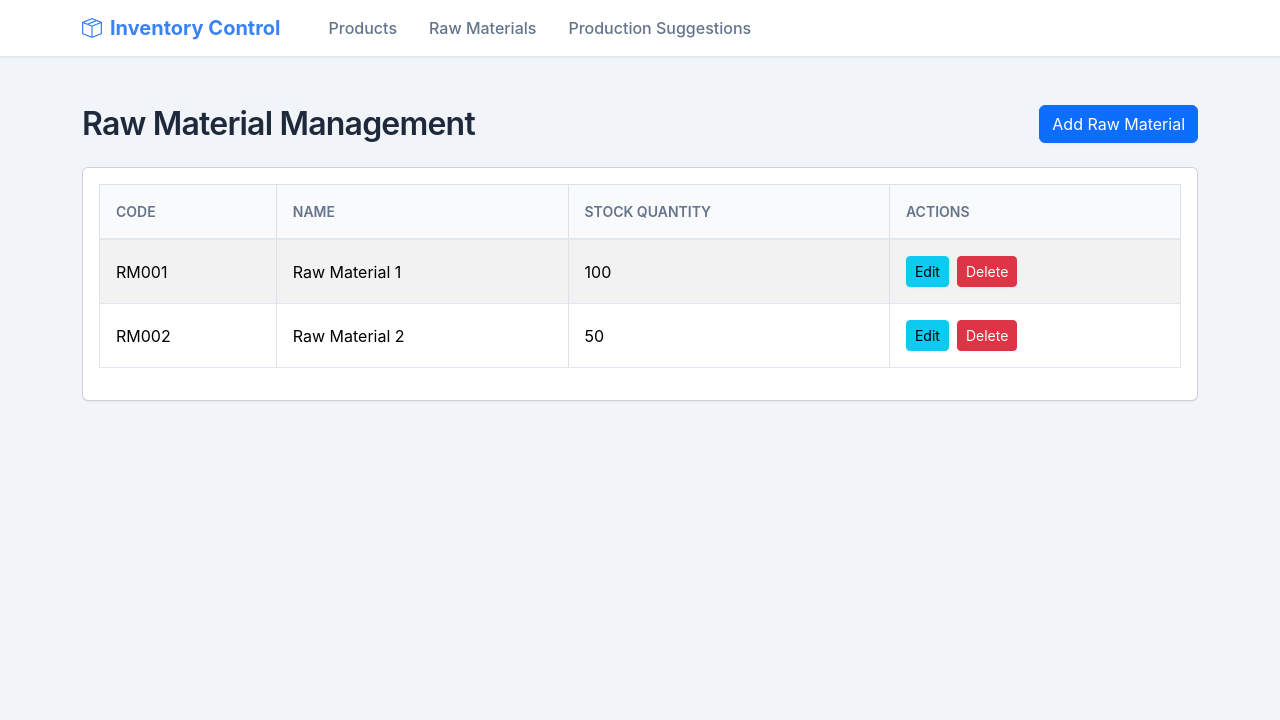
Test: Raw Material Management › should create a new raw material
The width and height of the screenshot is (1280, 720).
Click the button "Add Raw Material": (1119, 124) [1039,105,1198,143]
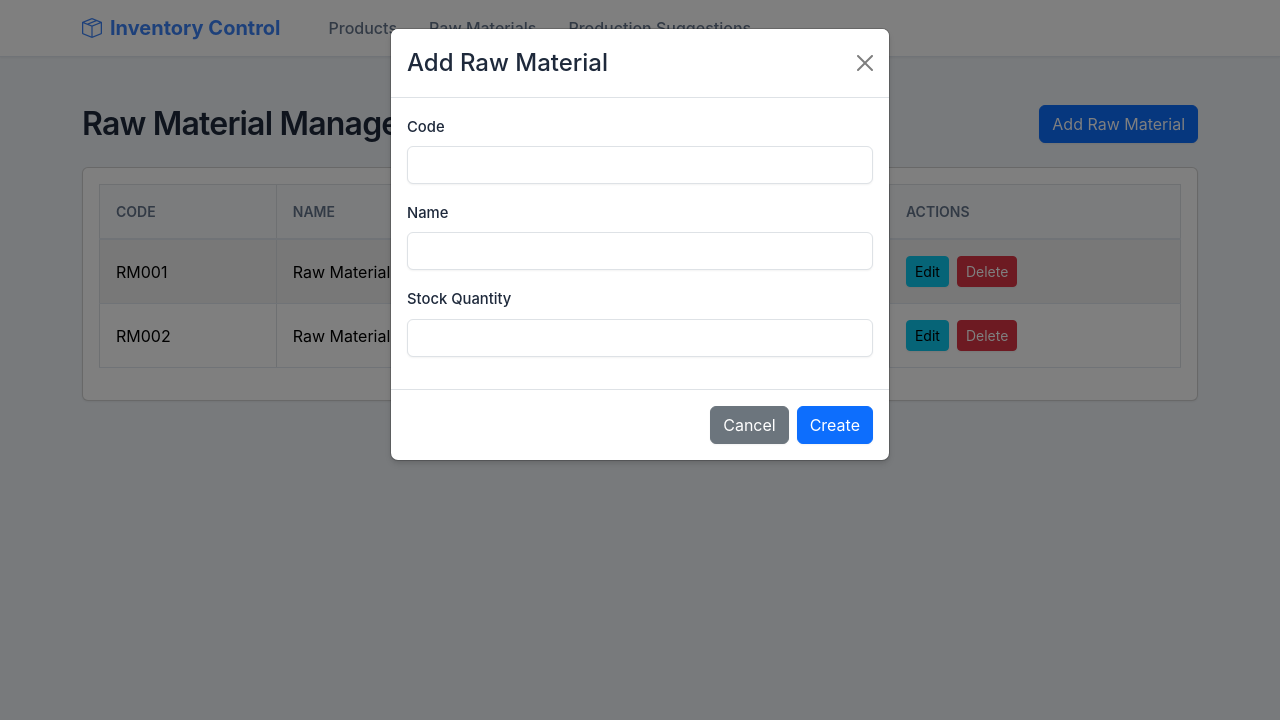
In the 1st field: (640, 165) [407,146,873,184], type "RM003"
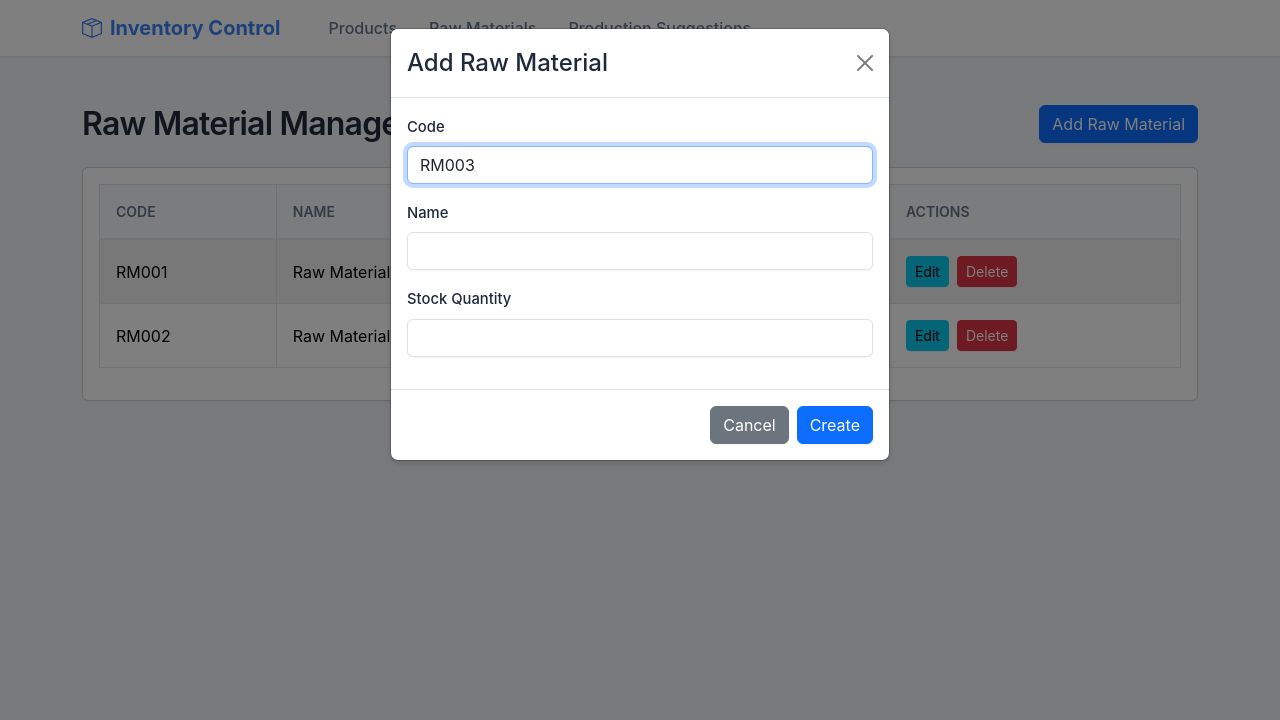
In the 2nd field: (640, 251) [407,232,873,270], type "New Raw Material"
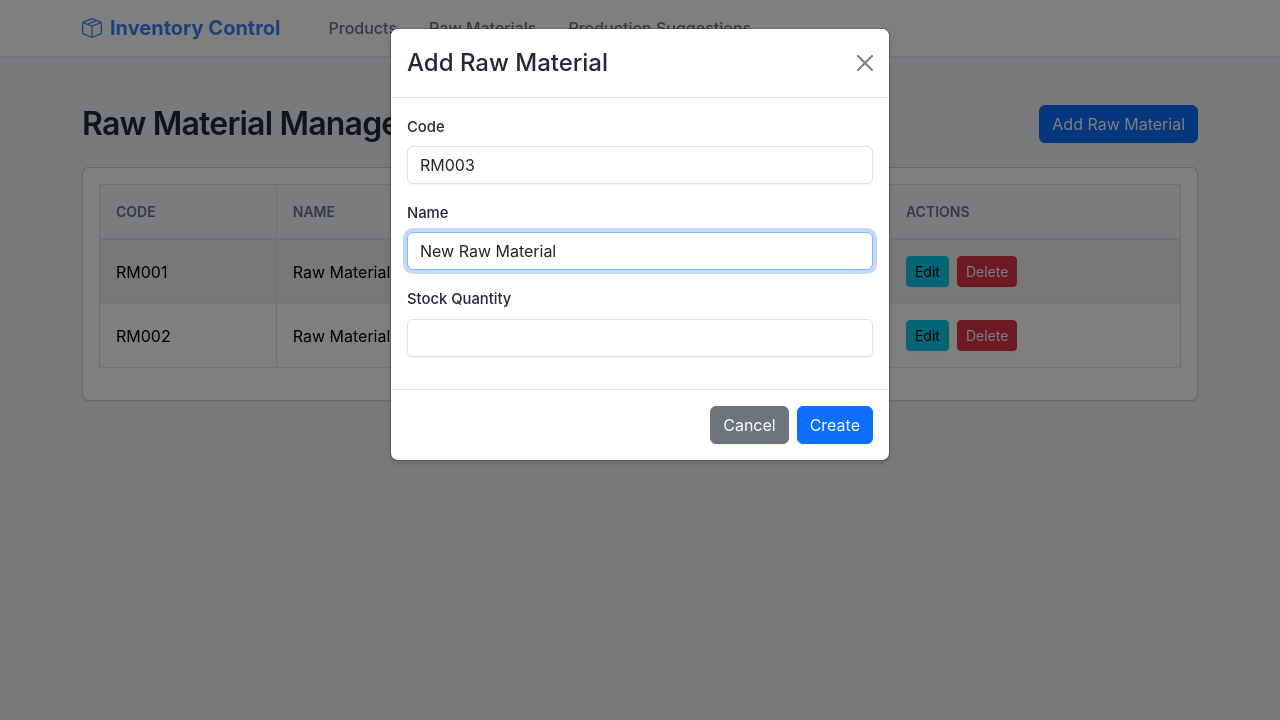
In the number field: (640, 338) [407,319,873,357], type "75"
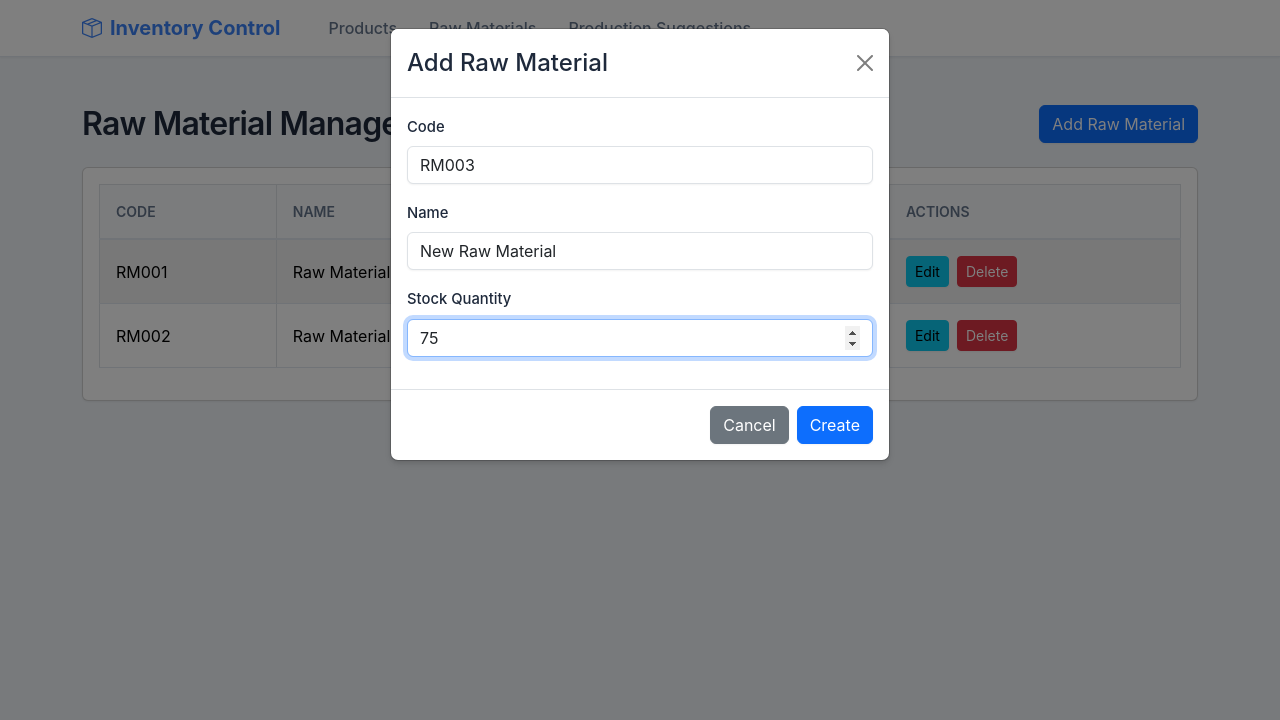
Click the button "Create": (835, 425) [797,406,873,444]
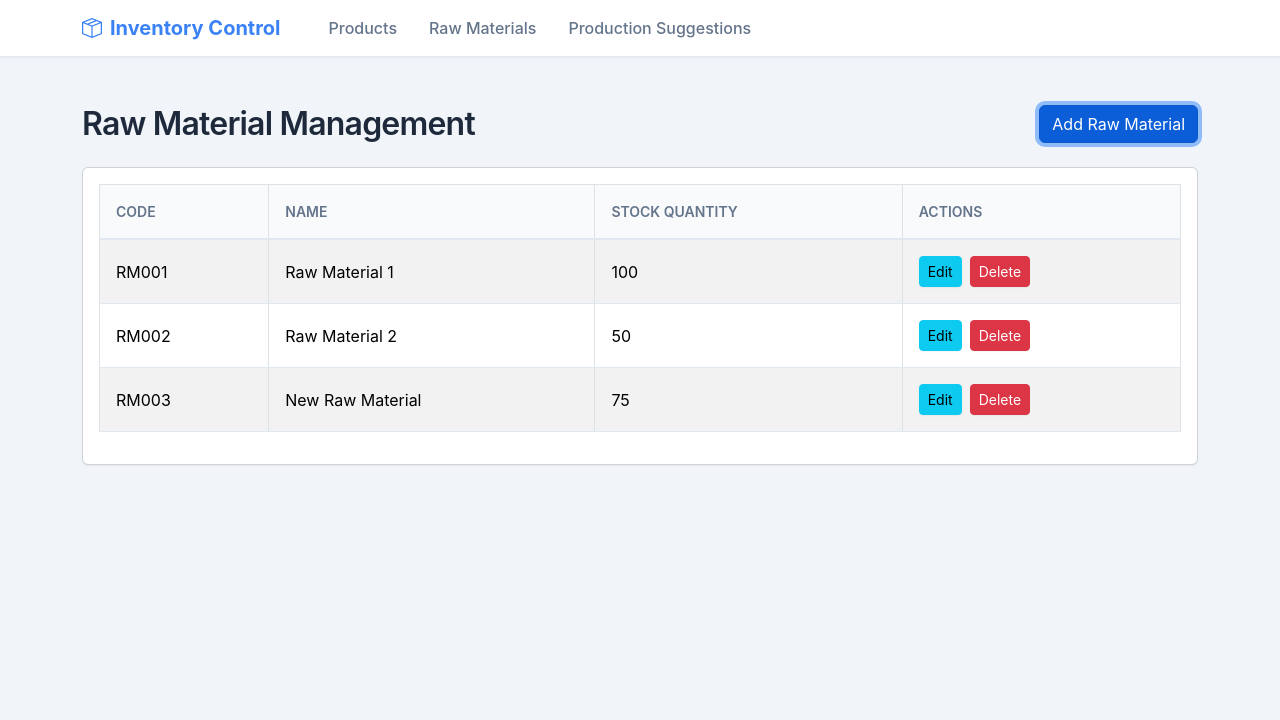
Expected: the text "RM003" is shown, [100,368,269,432]
Expected: the text "New Raw Material" is shown, [269,368,595,432]
